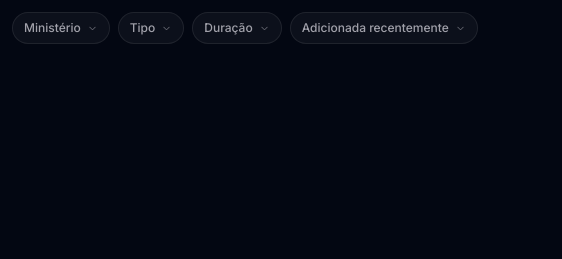
Test: LibraryFilters — UI › clicar no chip Tipo abre dropdown com opções localizadas
Click the button "Tipo".
click(151, 28)  # box [118, 12, 184, 44]
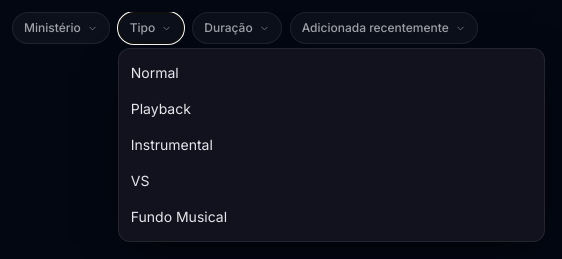
Check: the button "Normal" is shown, box [119, 55, 544, 91]
Check: the button "Playback" is shown, box [119, 91, 544, 127]
Check: the button "Instrumental" is shown, box [119, 127, 544, 163]
